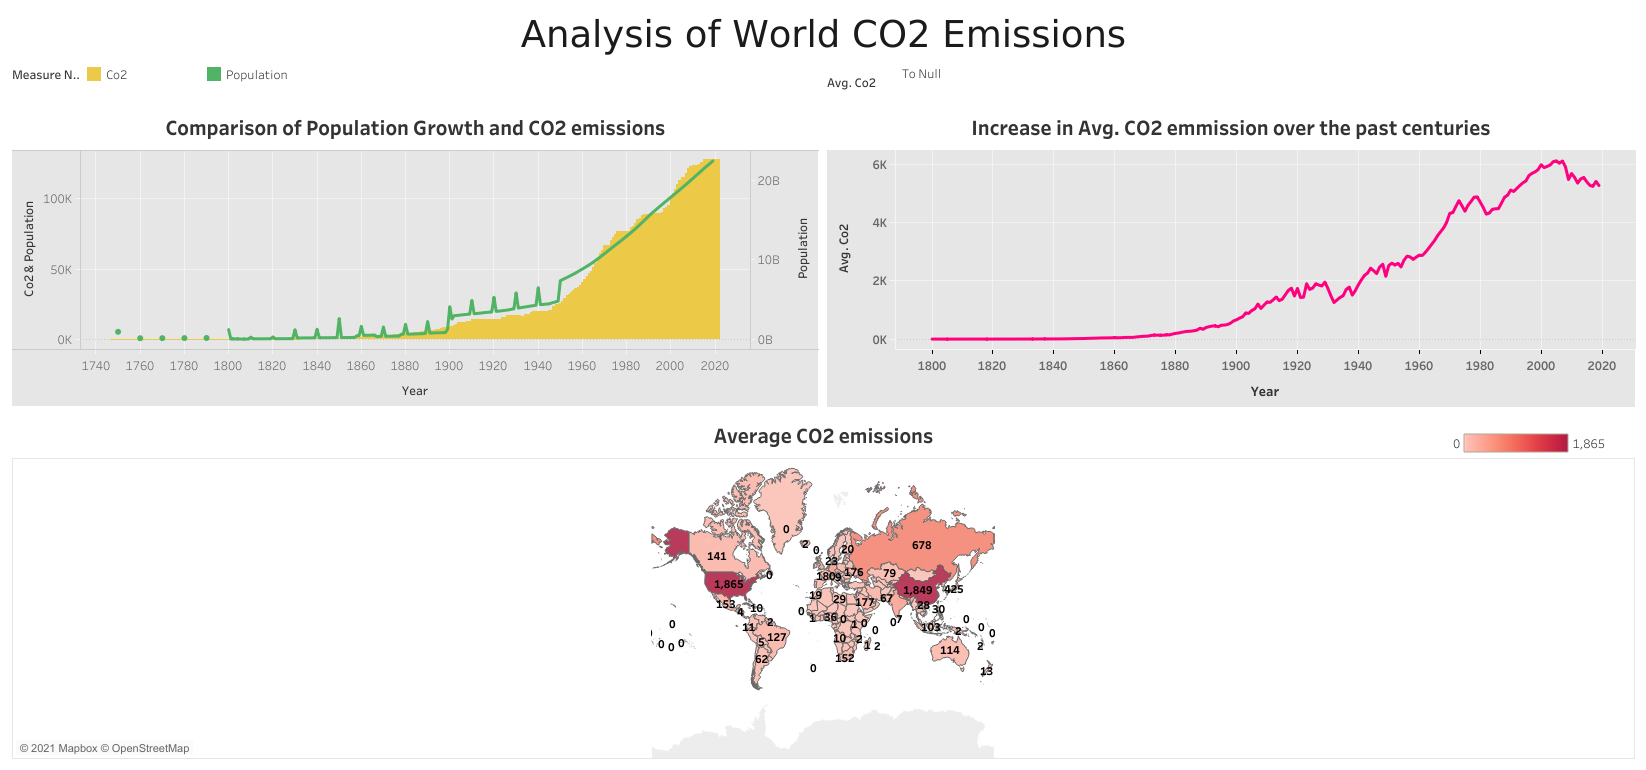

Layout of this report page (visuals, bound fields, positions):
{"tool":"tableau","page":{"name":"Dashboard 1","canvas":[1000,1000],"units":"permille","ordinal":0},"visuals":[{"type":"title","box":[5.5,9.2,989.1,56.1]},{"type":"legend","title":"Trends in pop co2","param":"[federated.07bxexd10f857l1fsys030ntx3rr].[:Measure Names]","box":[5.5,65.2,494.5,56.1]},{"type":"filter","title":"Trends in pop co2","param":"[federated.07bxexd10f857l1fsys030ntx3rr].[avg:co2:qk]","box":[500,65.2,494.6,56.1]},{"type":"worksheet","title":"Trends in pop co2","mark":"Automatic","rows":["co2","population"],"cols":["year"],"box":[5.5,121.3,494.5,406.7]},{"type":"worksheet","title":"CO2 Emissions increase","mark":"Automatic","rows":["co2"],"cols":["year"],"box":[500,121.3,494.6,406.7]},{"type":"worksheet","title":"Average Co2 Emissions","mark":"Automatic","box":[5.5,528,989.1,462.9]},{"type":"legend","title":"Average Co2 Emissions","param":"[federated.07bxexd10f857l1fsys030ntx3rr].[avg:co2:qk]","box":[879.7,558.4,97.9,44.6]}]}

Visuals, with their boxes on the dashboard's canvas, which has no fixed pixel size, in thousandths of its width and height (x1, y1, x2, y2). These are canvas units, not pixel positions in the 1646x770 screenshot, which may show the page scaled, cropped or inside an application window:
title: (left=6, top=9, right=995, bottom=65)
"Trends in pop co2" legend: (left=6, top=65, right=500, bottom=121)
"Trends in pop co2" filter: (left=500, top=65, right=995, bottom=121)
"Trends in pop co2" worksheet: (left=6, top=121, right=500, bottom=528)
"CO2 Emissions increase" worksheet: (left=500, top=121, right=995, bottom=528)
"Average Co2 Emissions" worksheet: (left=6, top=528, right=995, bottom=991)
"Average Co2 Emissions" legend: (left=880, top=558, right=978, bottom=603)
